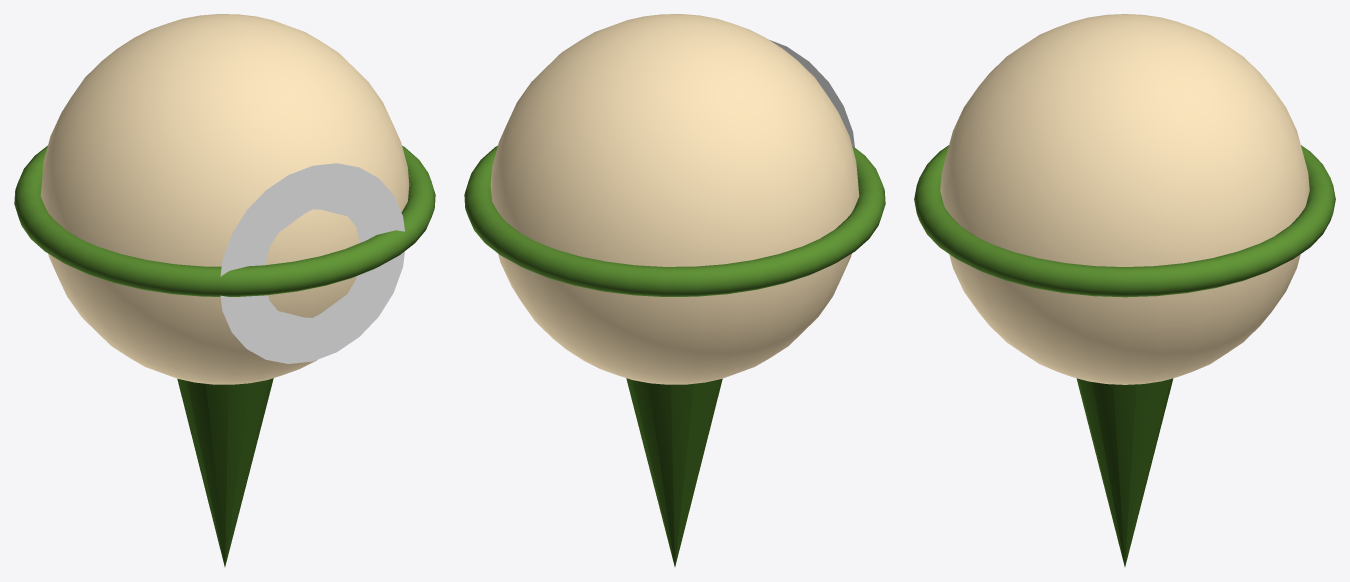
Rendered from fog.glb.
3 renders of one model, left to right at view 1: azimuth 30°, elevation 25°; view 2: azimuth 150°, elevation 25°; view 3: azimuth 270°, elevation 25°, orthographic.
Parts seen in each view (by area): view 1: hazardPin; view 2: hazardPin; view 3: hazardPin.
Part boxes in pixels (x1=…): hazardPin: x1=14, y1=14, x2=435, y2=566; hazardPin: x1=464, y1=14, x2=885, y2=566; hazardPin: x1=914, y1=14, x2=1335, y2=566.
Bounding box in the file's own units: 1.25 × 1.76 × 1.25.
